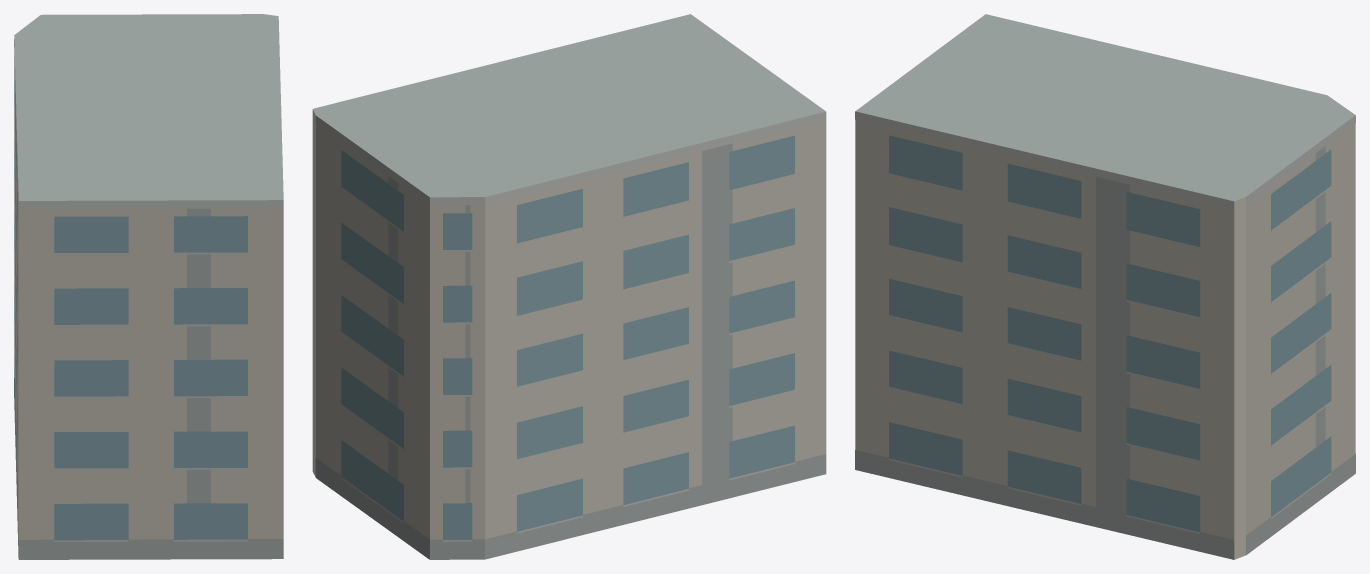
File: survey-upis-32774771.glb
3 views of the same model, side by side, from view 1: azimuth 30°, elevation 25°; view 2: azimuth 150°, elevation 25°; view 3: azimuth 270°, elevation 25° (orthographic).
Parts seen in each view (by area): view 1: survey-upis-32774771.tmp; view 2: survey-upis-32774771.tmp; view 3: survey-upis-32774771.tmp.
Boxes of the visible parts, x1,y1,x2,y2 form: survey-upis-32774771.tmp: (14, 14, 283, 559); survey-upis-32774771.tmp: (312, 14, 826, 559); survey-upis-32774771.tmp: (855, 14, 1355, 559).
Bounding box in the file's own units: 11.97 × 10.67 × 13.51.
